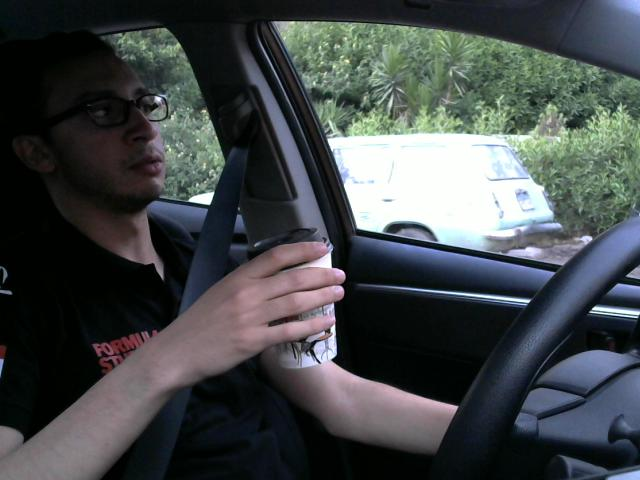Drinking: (246, 214, 348, 372)
